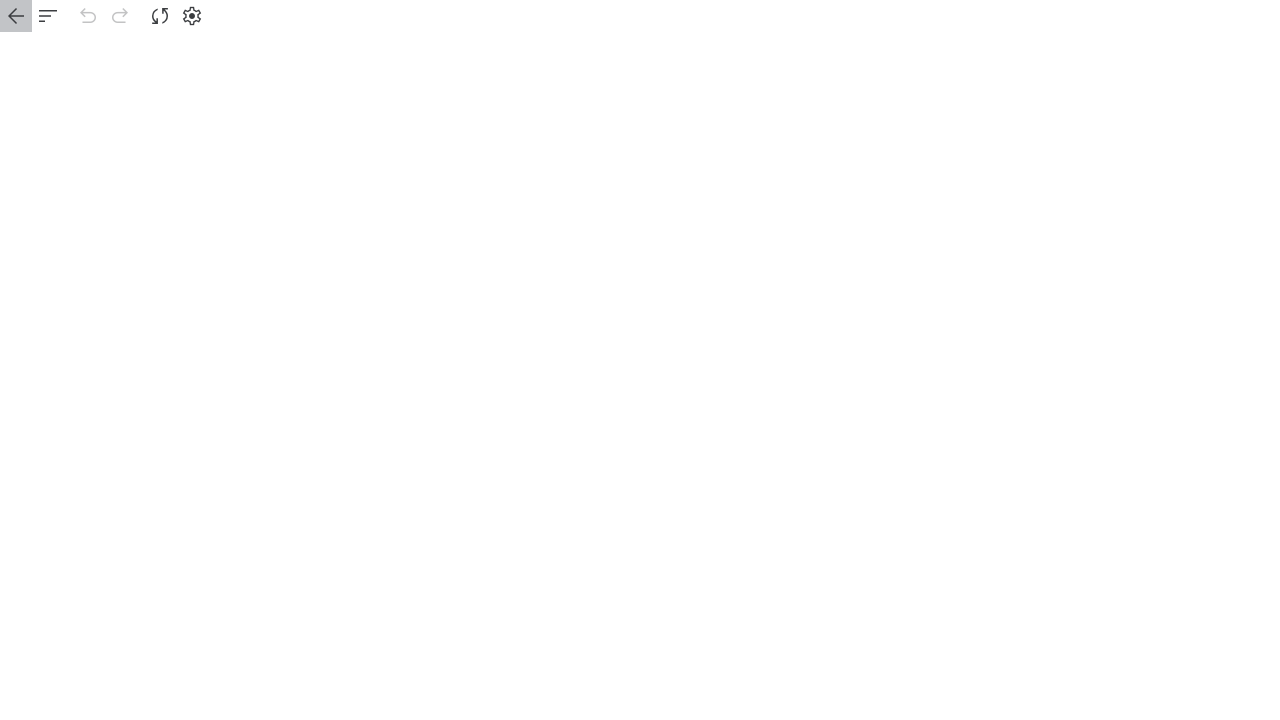
Test case: Back to your tab, from an unpinned full view (KAN-578) › Go back sends one message, closes the card and is remembered
Click the button named "Back to your tab": (16, 16) [0,0,32,32]
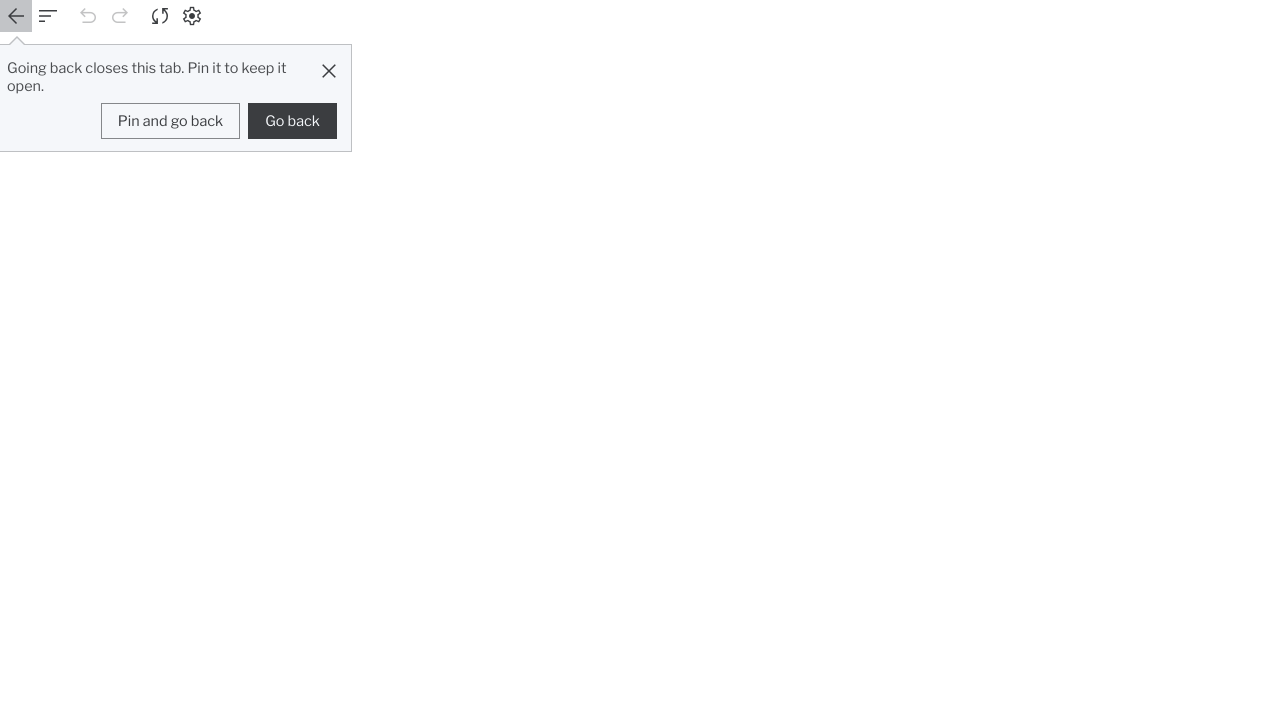
Click the button "Go back": (293, 121) [248,103,337,139]
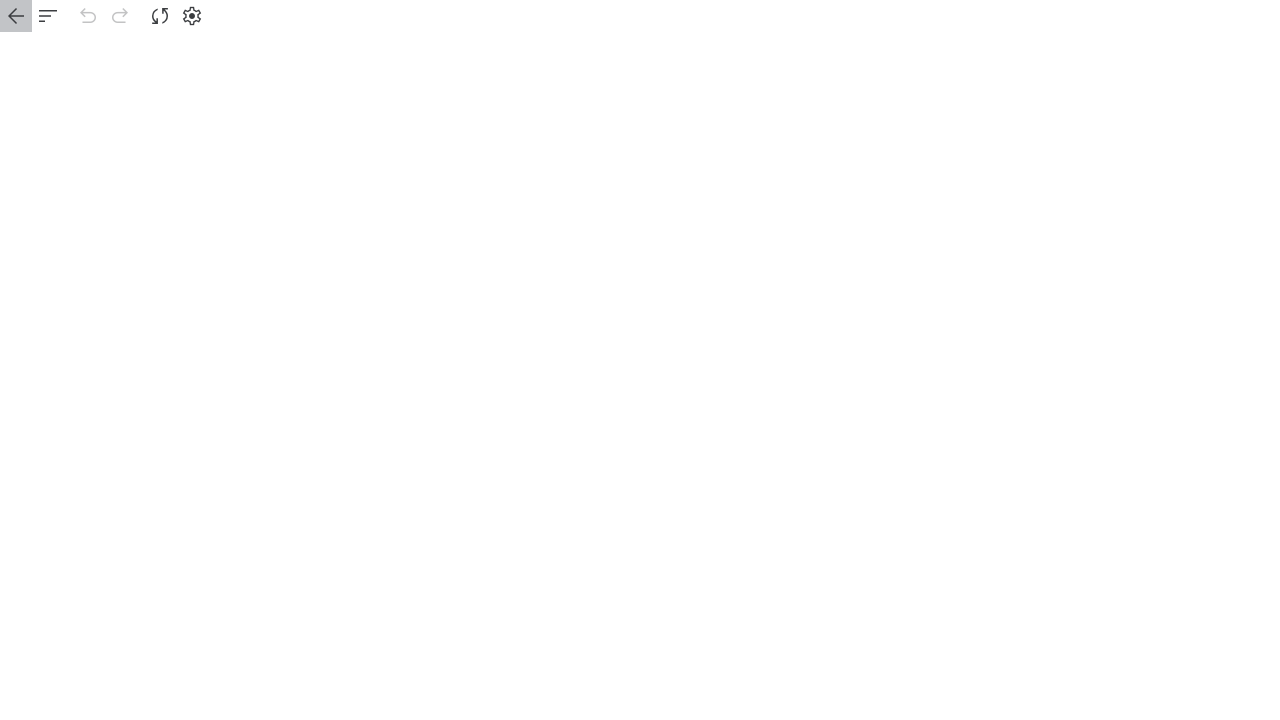
Expected: the dialog is gone
